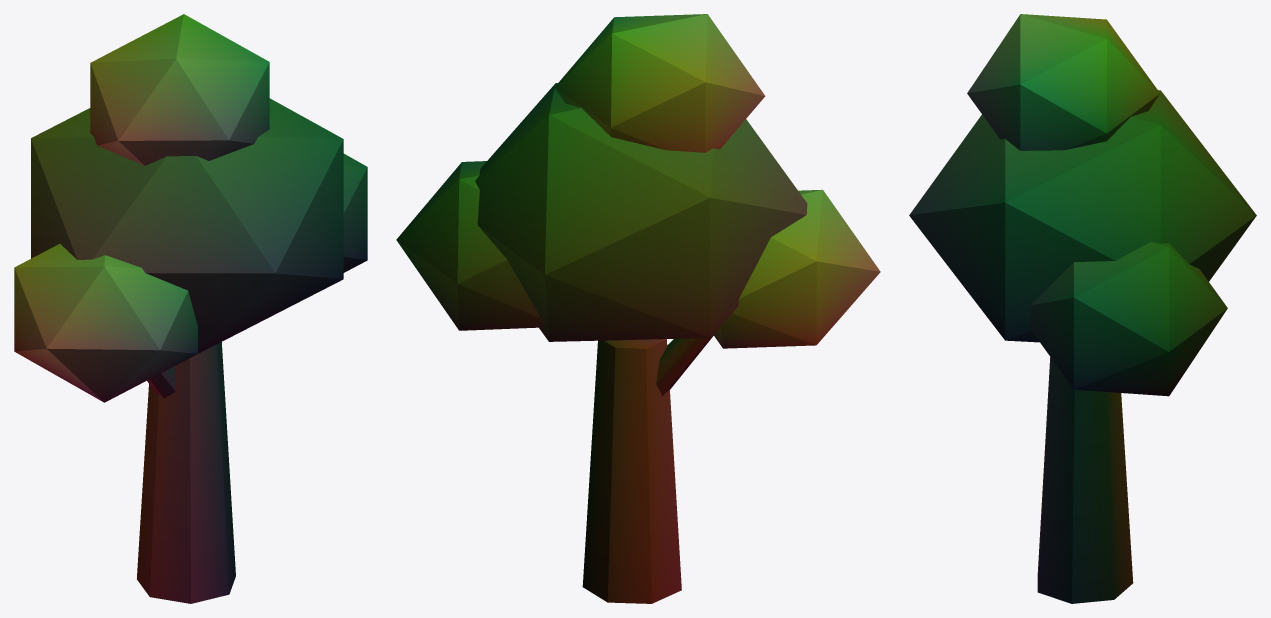
Rendered from OakTree.fbx.
The picture shows the model from 3 angles, left to right: view 1: azimuth 30°, elevation 25°; view 2: azimuth 150°, elevation 25°; view 3: azimuth 270°, elevation 25°; orthographic projection.
Visible parts, largest first — view 1: OakTree; view 2: OakTree; view 3: OakTree.
Part boxes in pixels (x1=…): OakTree: x1=14, y1=14, x2=367, y2=603; OakTree: x1=396, y1=14, x2=880, y2=603; OakTree: x1=909, y1=14, x2=1256, y2=603.
Bounding box in the file's own units: 2.28 × 3.13 × 1.8.
